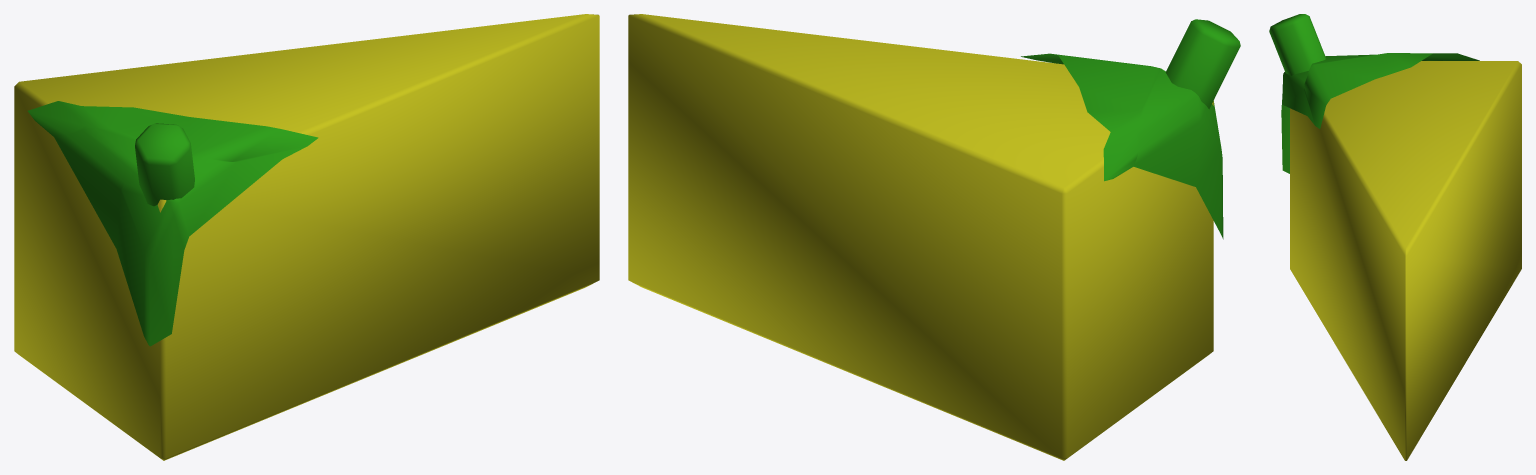
The model's file is cheese_fruit.glb.
3 views of the same model, side by side, from view 1: azimuth 30°, elevation 25°; view 2: azimuth 150°, elevation 25°; view 3: azimuth 270°, elevation 25° (orthographic). The views are drawn at different scales.
Parts seen in each view (by area): view 1: CheeseWedge-rigid; view 2: CheeseWedge-rigid; view 3: CheeseWedge-rigid.
Boxes of the visible parts, x1=… form: CheeseWedge-rigid: x1=14, y1=14, x2=599, y2=460; CheeseWedge-rigid: x1=628, y1=14, x2=1240, y2=460; CheeseWedge-rigid: x1=1269, y1=14, x2=1521, y2=460.
Size of the model in its own units: 0.4087 by 0.2431 by 0.2163.
